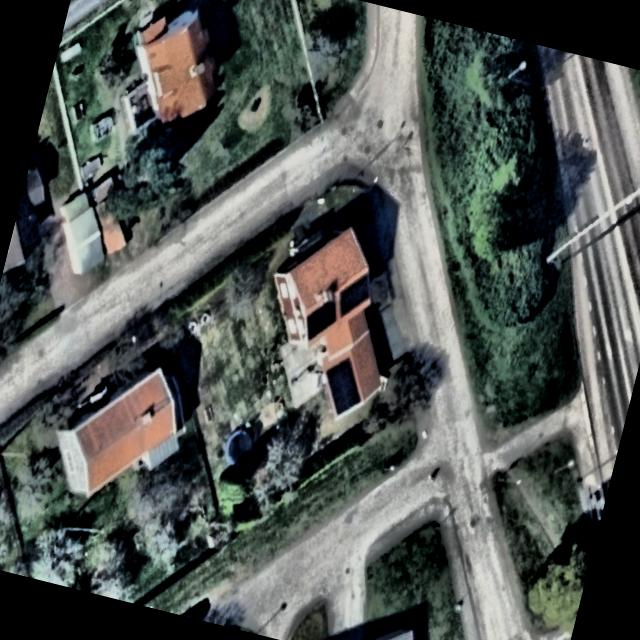roof_pv: (316, 351, 370, 421), (335, 268, 379, 324), (300, 292, 340, 346)
